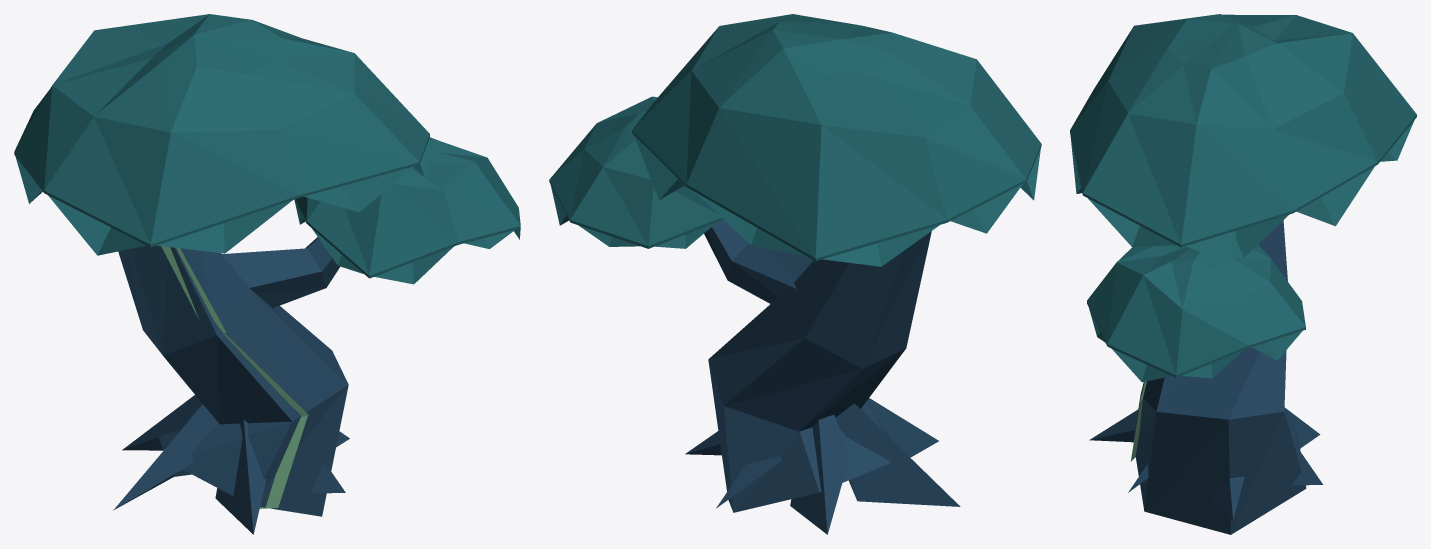
The picture shows the model from 3 angles, left to right: view 1: azimuth 30°, elevation 25°; view 2: azimuth 150°, elevation 25°; view 3: azimuth 270°, elevation 25°; orthographic projection. The views are drawn at different scales.
Visible parts, largest first — view 1: 复用无尽森林树_3.001; view 2: 复用无尽森林树_3.001; view 3: 复用无尽森林树_3.001.
Boxes of the visible parts, x1,y1,x2,y2 form: 复用无尽森林树_3.001: (14, 14, 520, 534); 复用无尽森林树_3.001: (549, 14, 1041, 534); 复用无尽森林树_3.001: (1070, 14, 1416, 534).
Bounding box in the file's own units: 0.5934 × 0.588 × 0.4036.
